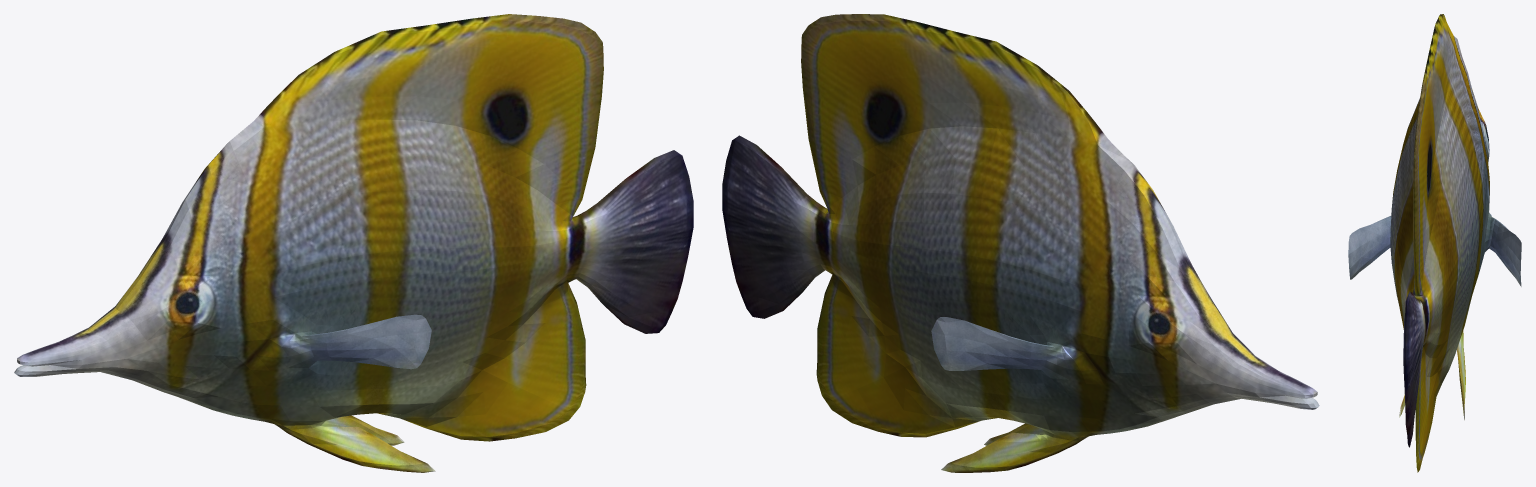
File: Pez03.obj
3 views of the same model, side by side, from view 1: azimuth 30°, elevation 25°; view 2: azimuth 150°, elevation 25°; view 3: azimuth 270°, elevation 25° (orthographic). The views are drawn at different scales.
Parts seen in each view (by area): view 1: Pez03:_PhongSpecularColor_1__PhongSpecularColor_1_1__PhongSpecul; view 2: Pez03:_PhongSpecularColor_1__PhongSpecularColor_1_1__PhongSpecul; view 3: Pez03:_PhongSpecularColor_1__PhongSpecularColor_1_1__PhongSpecul.
Part boxes in pixels (bbox=[...]): Pez03:_PhongSpecularColor_1__PhongSpecularColor_1_1__PhongSpecul: bbox=[14, 14, 693, 472]; Pez03:_PhongSpecularColor_1__PhongSpecularColor_1_1__PhongSpecul: bbox=[722, 14, 1319, 472]; Pez03:_PhongSpecularColor_1__PhongSpecularColor_1_1__PhongSpecul: bbox=[1348, 14, 1521, 472].
Size of the model in its own units: 1.1 by 0.7073 by 0.2919.
1 material, 1 textured.
